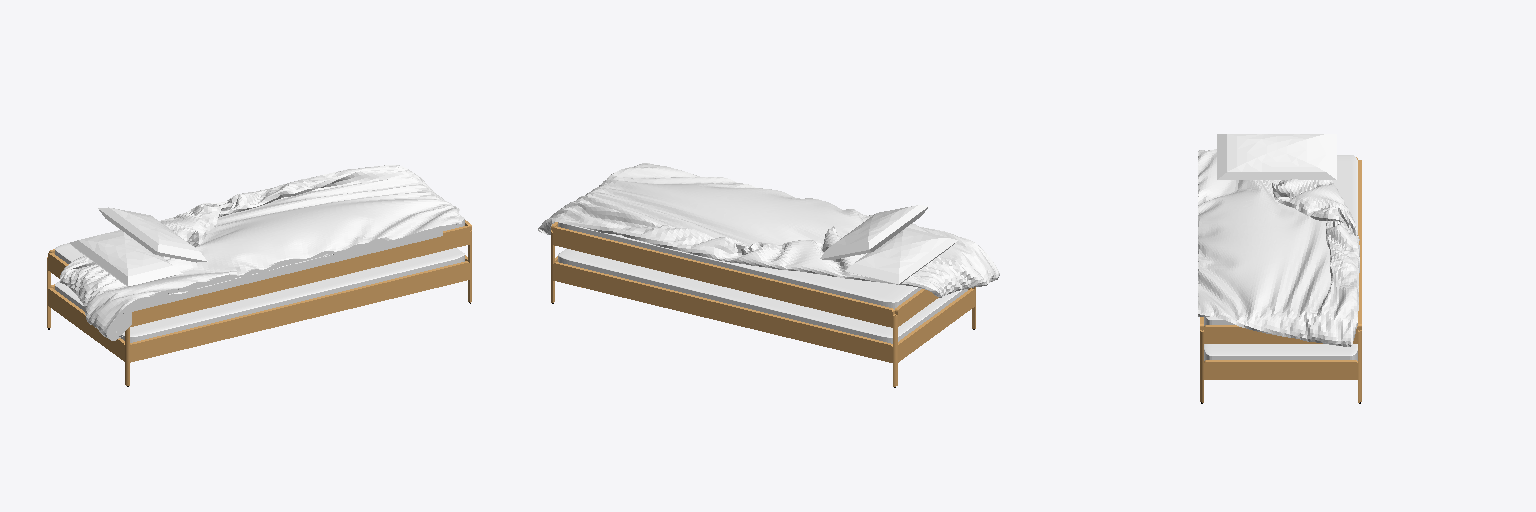
Rendered from DayBed_UTaker.obj.
The picture shows the model from 3 angles: view 1: azimuth 30°, elevation 25°; view 2: azimuth 150°, elevation 25°; view 3: azimuth 270°, elevation 25°; orthographic projection.
Visible parts, largest first — view 1: obj_0; view 2: obj_0; view 3: obj_0.
Boxes of the visible parts, x1,y1,x2,y2 form: obj_0: [47, 165, 471, 386]; obj_0: [538, 163, 999, 387]; obj_0: [1198, 134, 1361, 403].
Size of the model in its own units: 230 by 69.79 by 84.